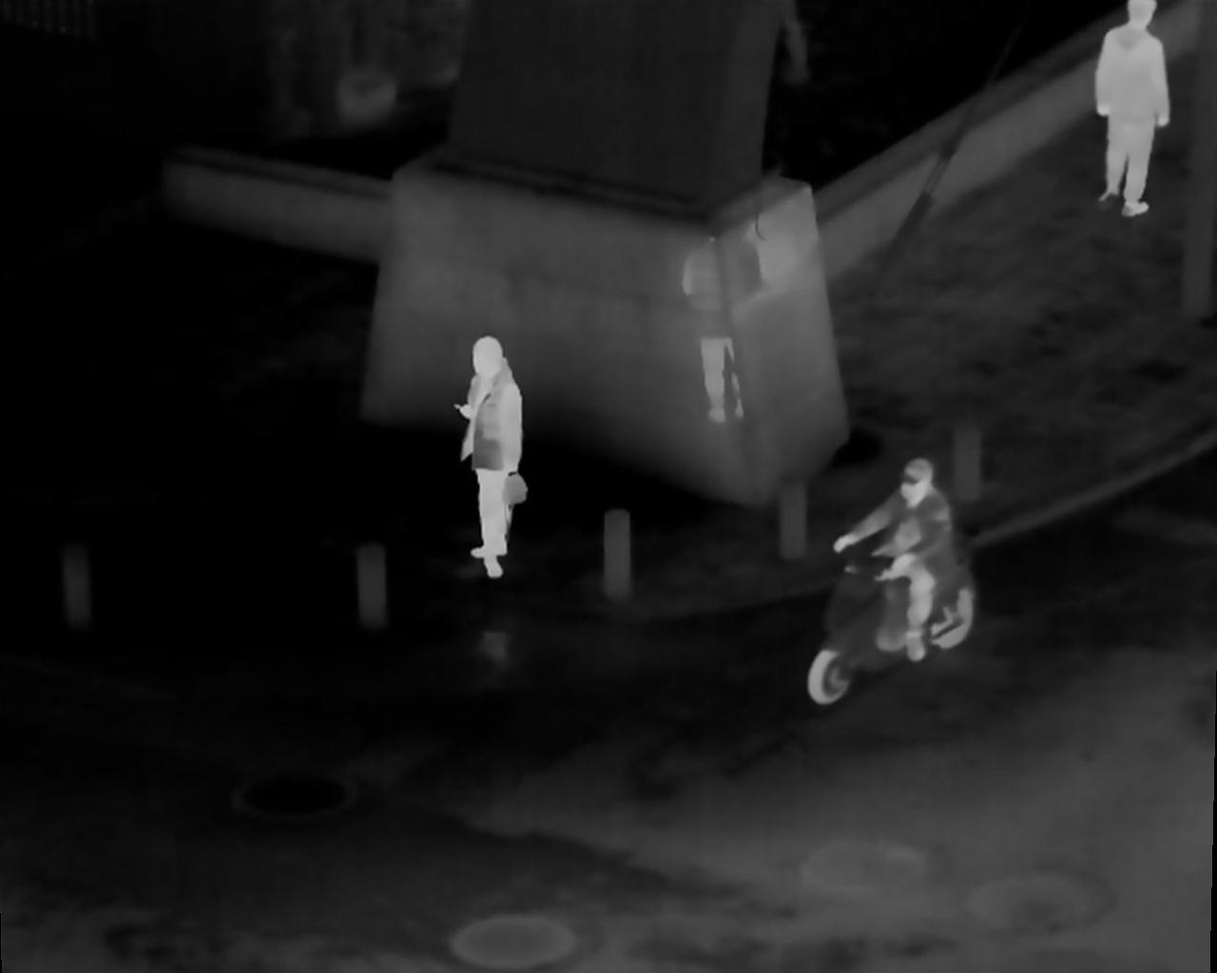person: (830, 457, 955, 665), (1090, 5, 1179, 217), (459, 334, 534, 578)
